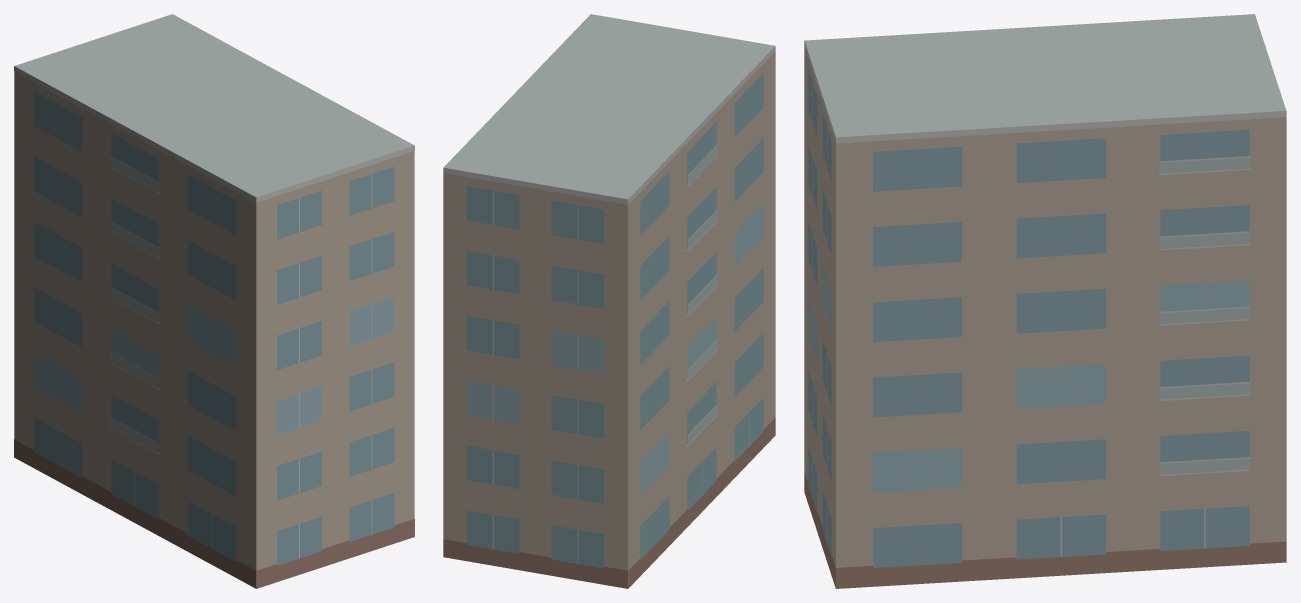
Rendered from survey-upis-32720387.glb.
3 views of the same model, side by side, from view 1: azimuth 30°, elevation 25°; view 2: azimuth 150°, elevation 25°; view 3: azimuth 270°, elevation 25° (orthographic). The views are drawn at different scales.
Visible parts, largest first — view 1: survey-upis-32720387.tmp; view 2: survey-upis-32720387.tmp; view 3: survey-upis-32720387.tmp.
Boxes of the visible parts, box(x1,y1,x2,y2) form: survey-upis-32720387.tmp: box(14, 14, 414, 588); survey-upis-32720387.tmp: box(443, 14, 775, 588); survey-upis-32720387.tmp: box(804, 14, 1286, 588).
Size of the model in its own units: 10.44 by 17.8 by 17.23.
